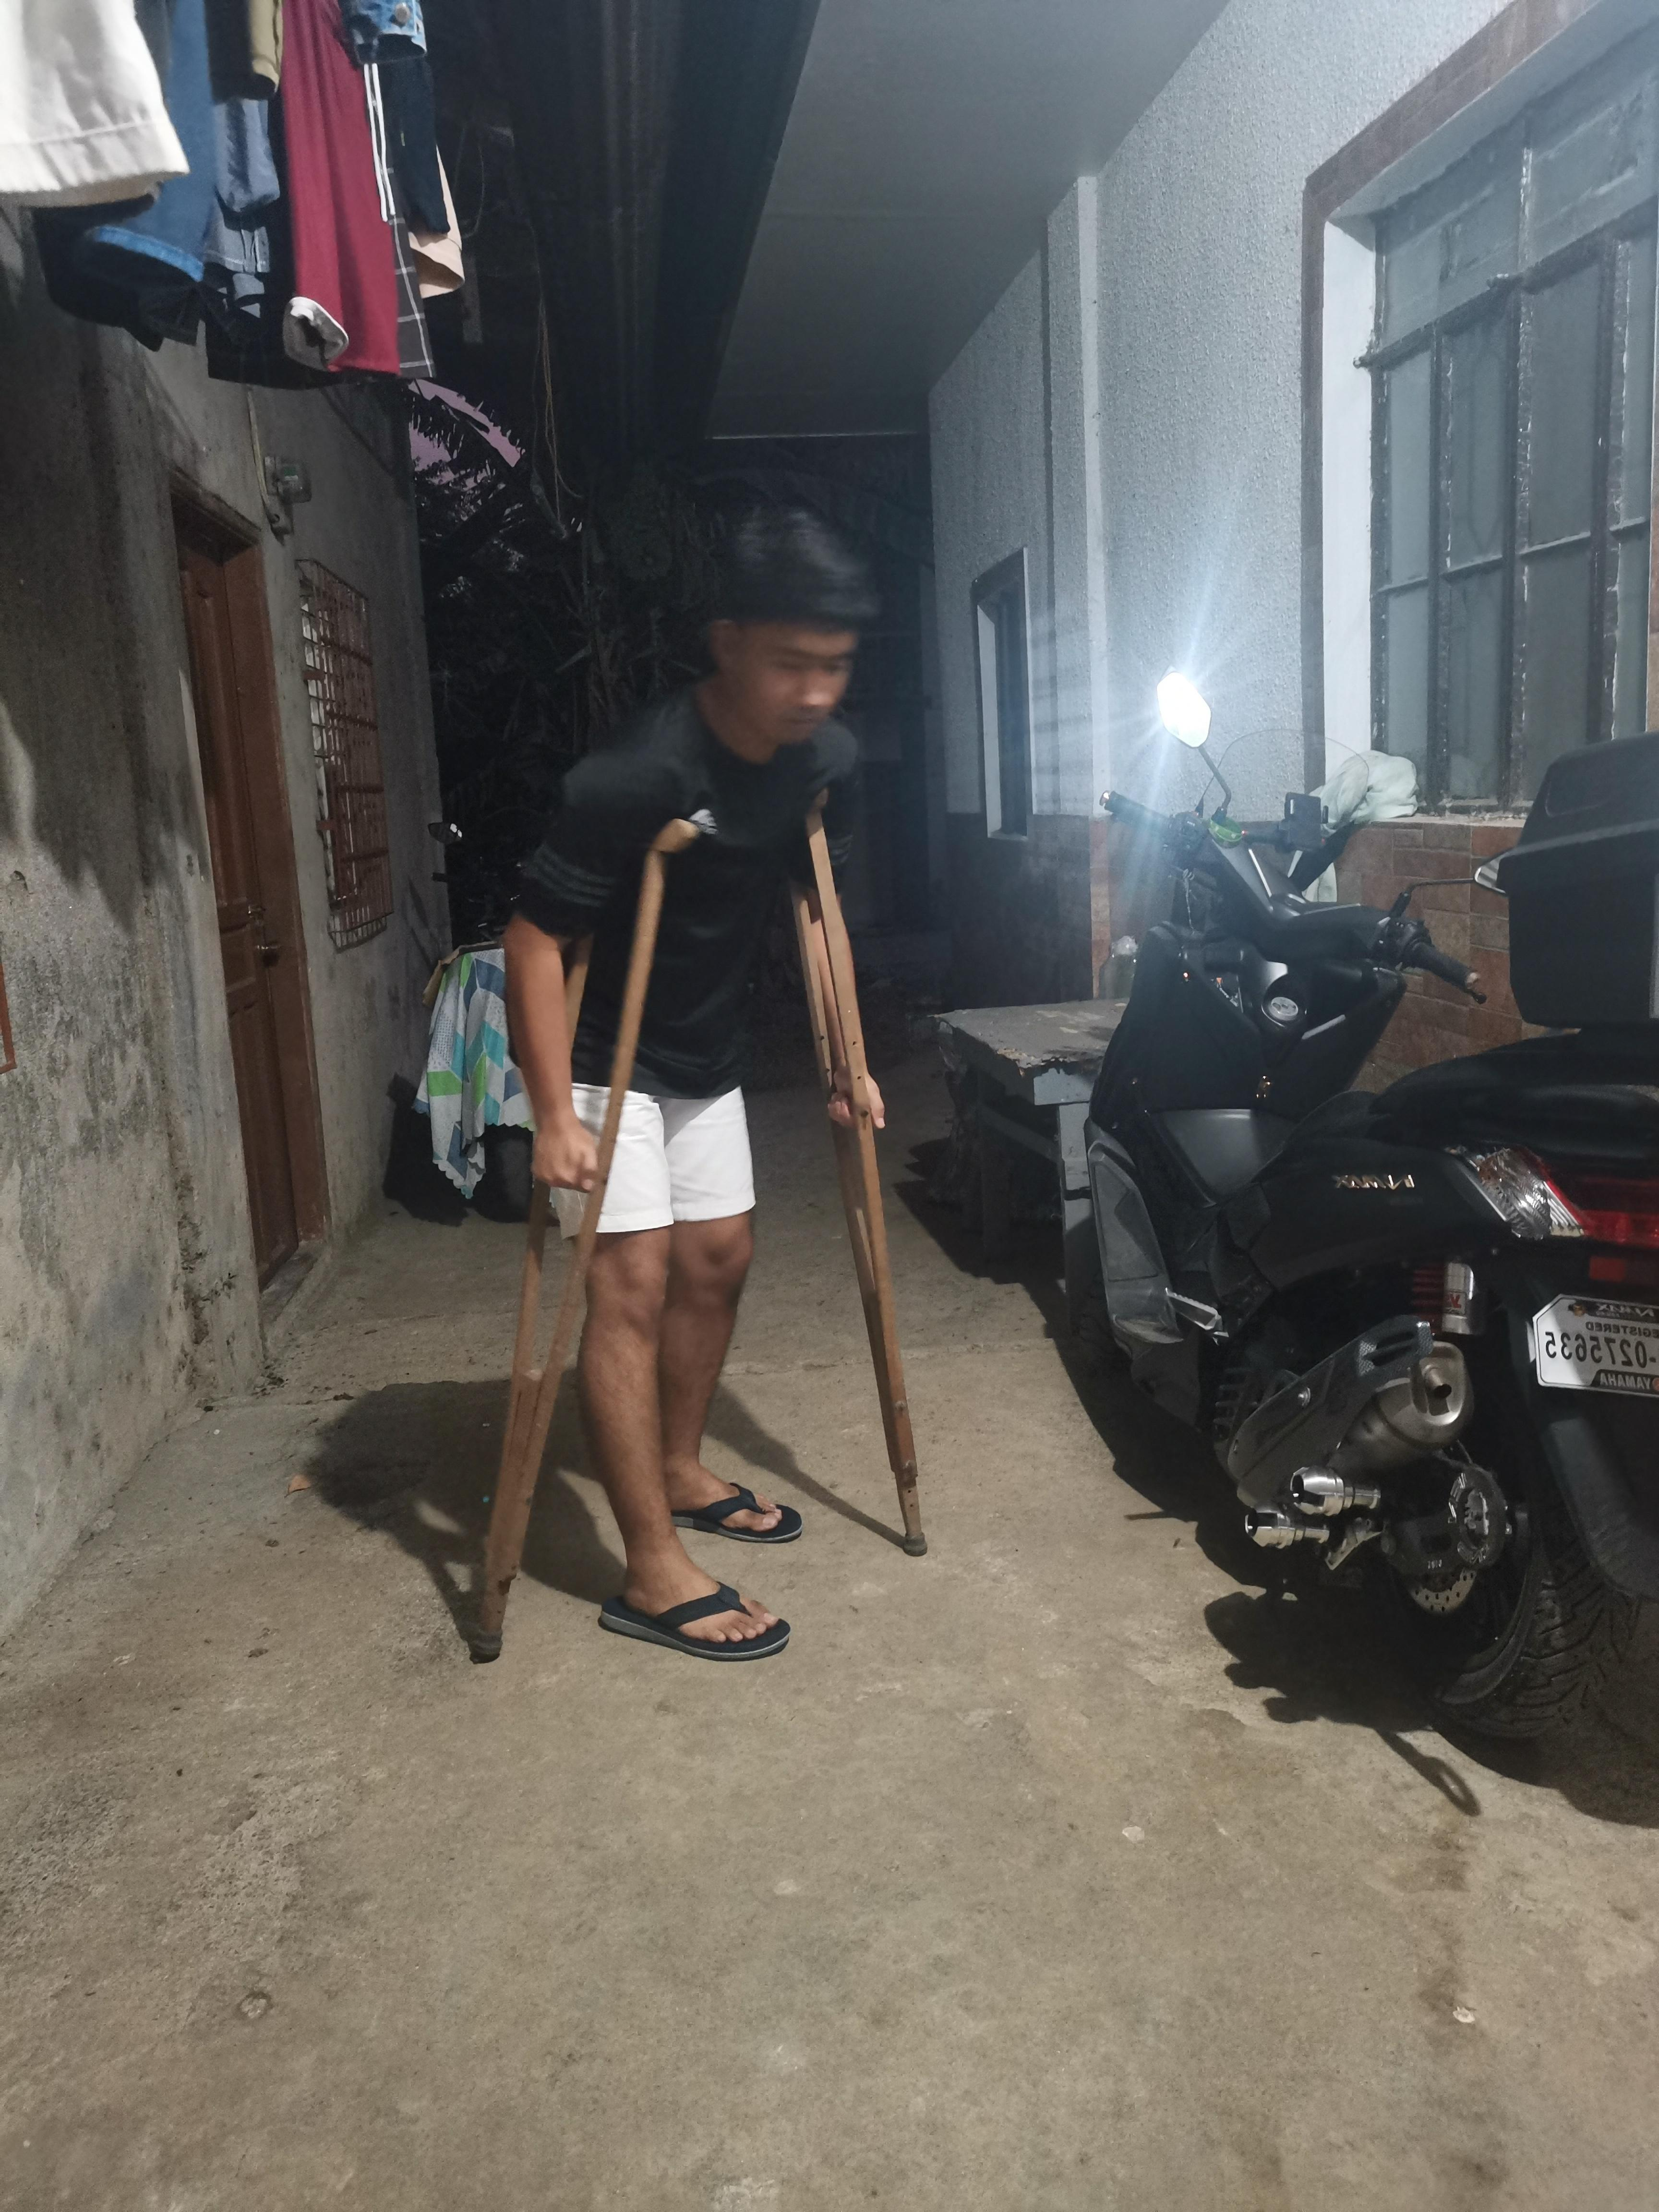crutches: (469, 514, 932, 1670)
